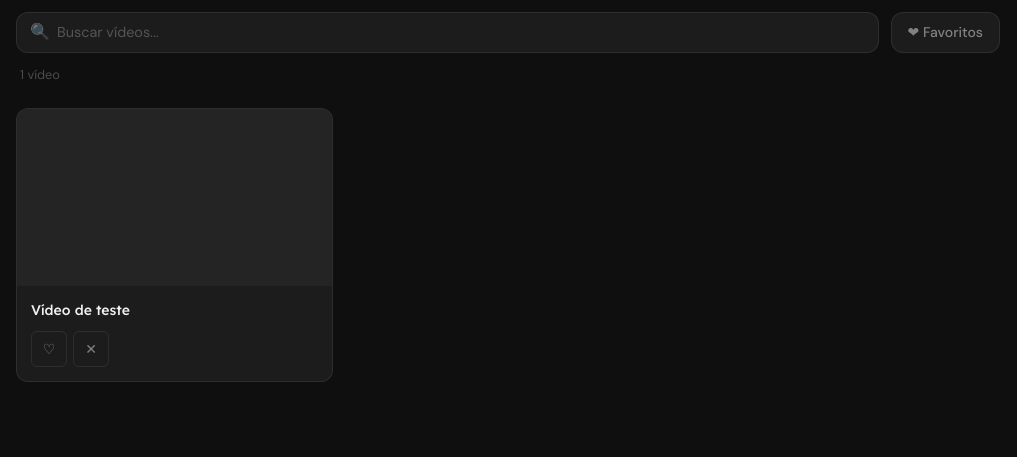
it: VideoList - favoritos e exclusão › confirmar ocultar remove o vídeo da lista
This screenshot has width=1017, height=457.
Click the button named "ocultar": (91, 349) left=73, top=331, right=109, bottom=367
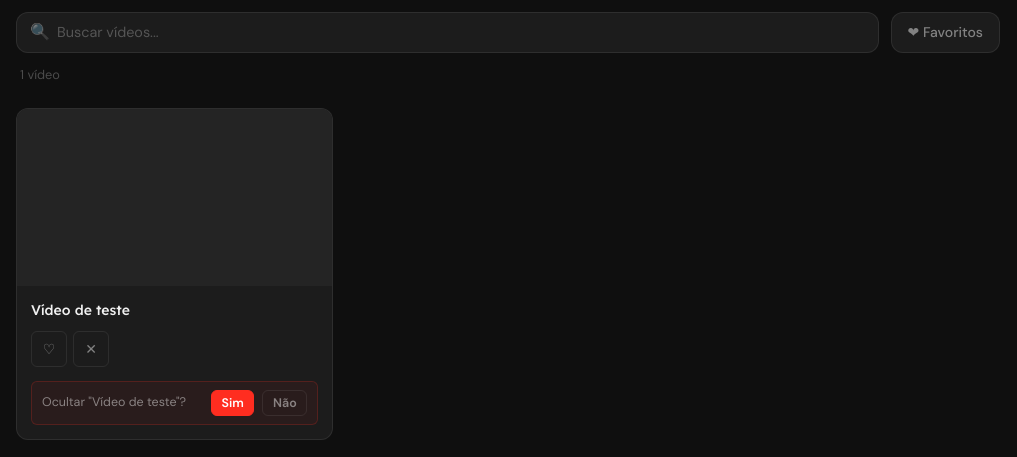
Click the button with aria-label "confirmar ocultar": (233, 403) left=211, top=390, right=254, bottom=416
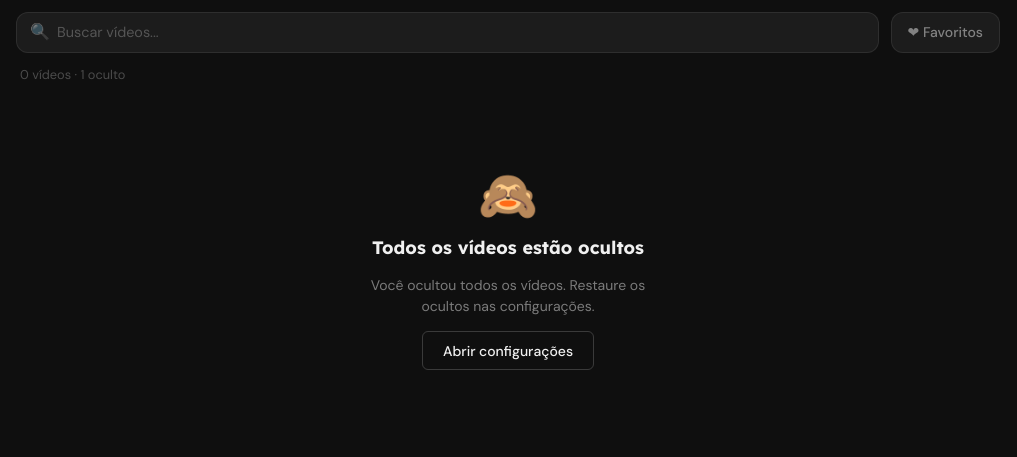
Now the button "Vídeo de teste" is gone
